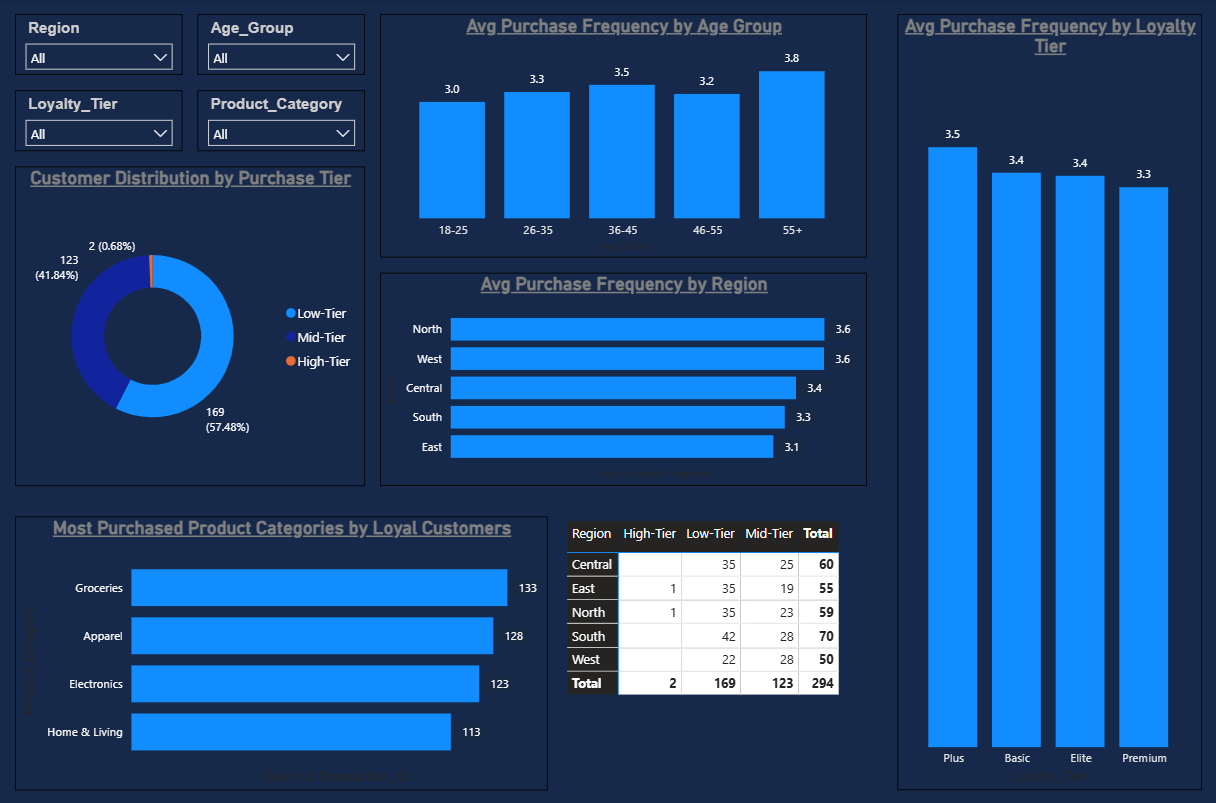

What the dashboard file says about the page in this screenshot:
{"tool":"powerbi","page":{"name":"Page2","canvas":[1280,850],"ordinal":1},"visuals":[{"type":"donutChart","title":"Customer Distribution by Purchase Tier","fields":{"Category":["Customer_Transactions.Purchase_Segment"],"Y":["Measures_Folder.Customers in Segment"]},"box":[16,176,368,336],"z":0},{"type":"clusteredBarChart","title":"Avg Purchase Frequency by Region","fields":{"Y":["Measures_Folder.Avg Purchase Frequency"],"Category":["Customer_Demographics.Region"]},"box":[400,288,512,224],"z":1000},{"type":"clusteredColumnChart","title":"Avg Purchase Frequency by Age Group","fields":{"Y":["Measures_Folder.Avg Purchase Frequency"],"Category":["Customer_Demographics.Age_Group"]},"box":[400,16,512,256],"z":2000},{"type":"clusteredColumnChart","title":"Avg Purchase Frequency by Loyalty Tier","fields":{"Y":["Measures_Folder.Avg Purchase Frequency"],"Category":["Loyalty_Program.Loyalty_Tier"]},"box":[944,16,320,816],"z":3000},{"type":"clusteredBarChart","title":"Most Purchased Product Categories by Loyal Customers","fields":{"Category":["Customer_Transactions.Product_Category"],"Y":["CountNonNull(Customer_Transactions.Transaction_ID)"]},"box":[16,544,560,288],"z":4000},{"type":"pivotTable","fields":{"Rows":["Customer_Demographics.Region"],"Columns":["Customer_Transactions.Purchase_Segment"],"Values":["Measures_Folder.Customers in Segment"]},"box":[592,544,336,288],"z":5000},{"type":"slicer","fields":{"Values":["Customer_Demographics.Region"]},"box":[16,16,176,64],"z":6000},{"type":"slicer","fields":{"Values":["Customer_Demographics.Age_Group"]},"box":[208,16,176,64],"z":7000},{"type":"slicer","fields":{"Values":["Loyalty_Program.Loyalty_Tier"]},"box":[16,96,176,64],"z":8000},{"type":"slicer","fields":{"Values":["Customer_Transactions.Product_Category"]},"box":[208,96,176,64],"z":9000}]}

Visuals, with their boxes in screenshot pixels (x1, y1, x2, y2), scaled from the page's 1280x850 canvas onto the 1216x803 screenshot:
"Customer Distribution by Purchase Tier" donutChart: 15, 166, 365, 484
"Avg Purchase Frequency by Region" clusteredBarChart: 380, 272, 866, 484
"Avg Purchase Frequency by Age Group" clusteredColumnChart: 380, 15, 866, 257
"Avg Purchase Frequency by Loyalty Tier" clusteredColumnChart: 897, 15, 1201, 786
"Most Purchased Product Categories by Loyal Customers" clusteredBarChart: 15, 514, 547, 786
pivotTable - Customer_Demographics.Region x Customer_Transactions.Purchase_Segment: 562, 514, 882, 786
slicer - Customer_Demographics.Region: 15, 15, 182, 76
slicer - Customer_Demographics.Age_Group: 198, 15, 365, 76
slicer - Loyalty_Program.Loyalty_Tier: 15, 91, 182, 151
slicer - Customer_Transactions.Product_Category: 198, 91, 365, 151
